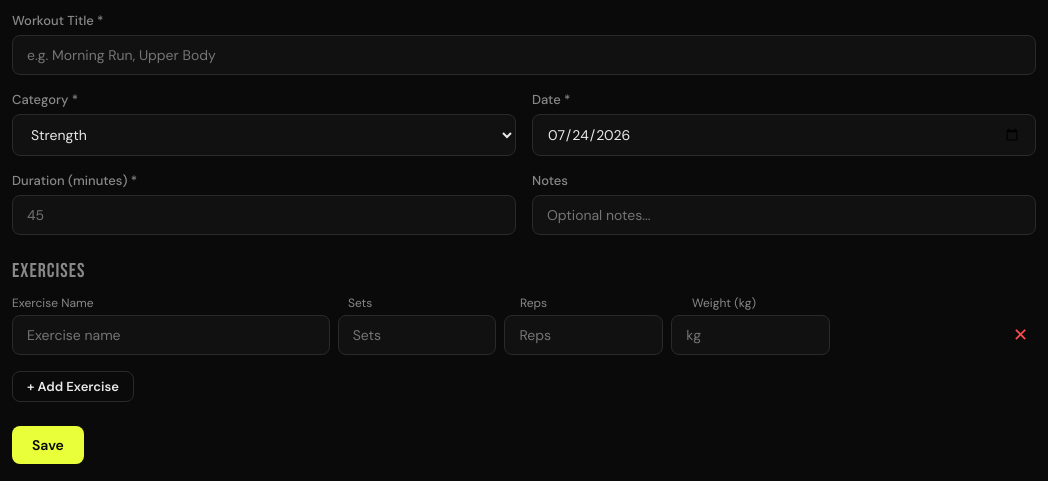
Test case: WorkoutForm › shows distance field instead of sets/reps/weight for cardio category
Select "Cardio" in the dropdown. click: (264, 135)
box: [12,114,516,156]
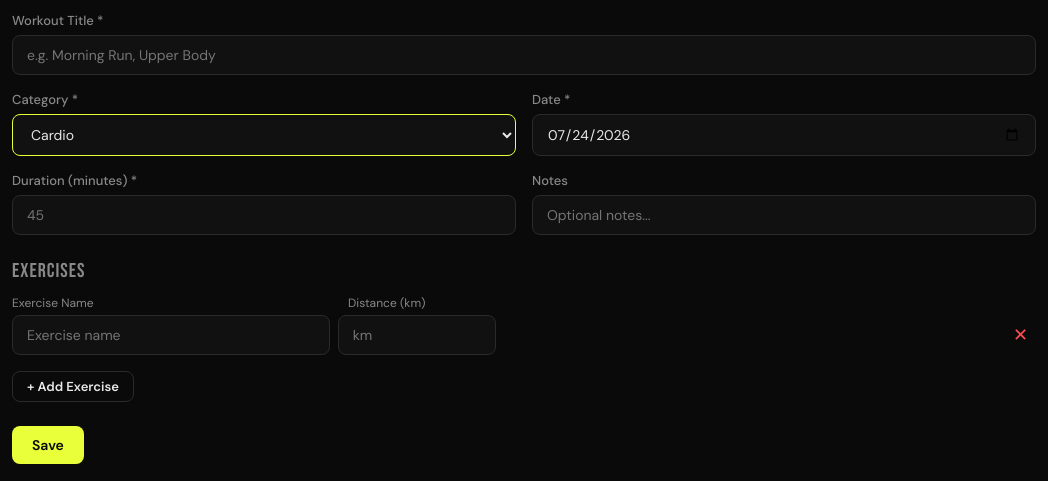
Result: the number field with placeholder "km" is shown at [338,315,496,355]
Result: the text with placeholder "Sets" is gone
Result: the text with placeholder "Reps" is gone
